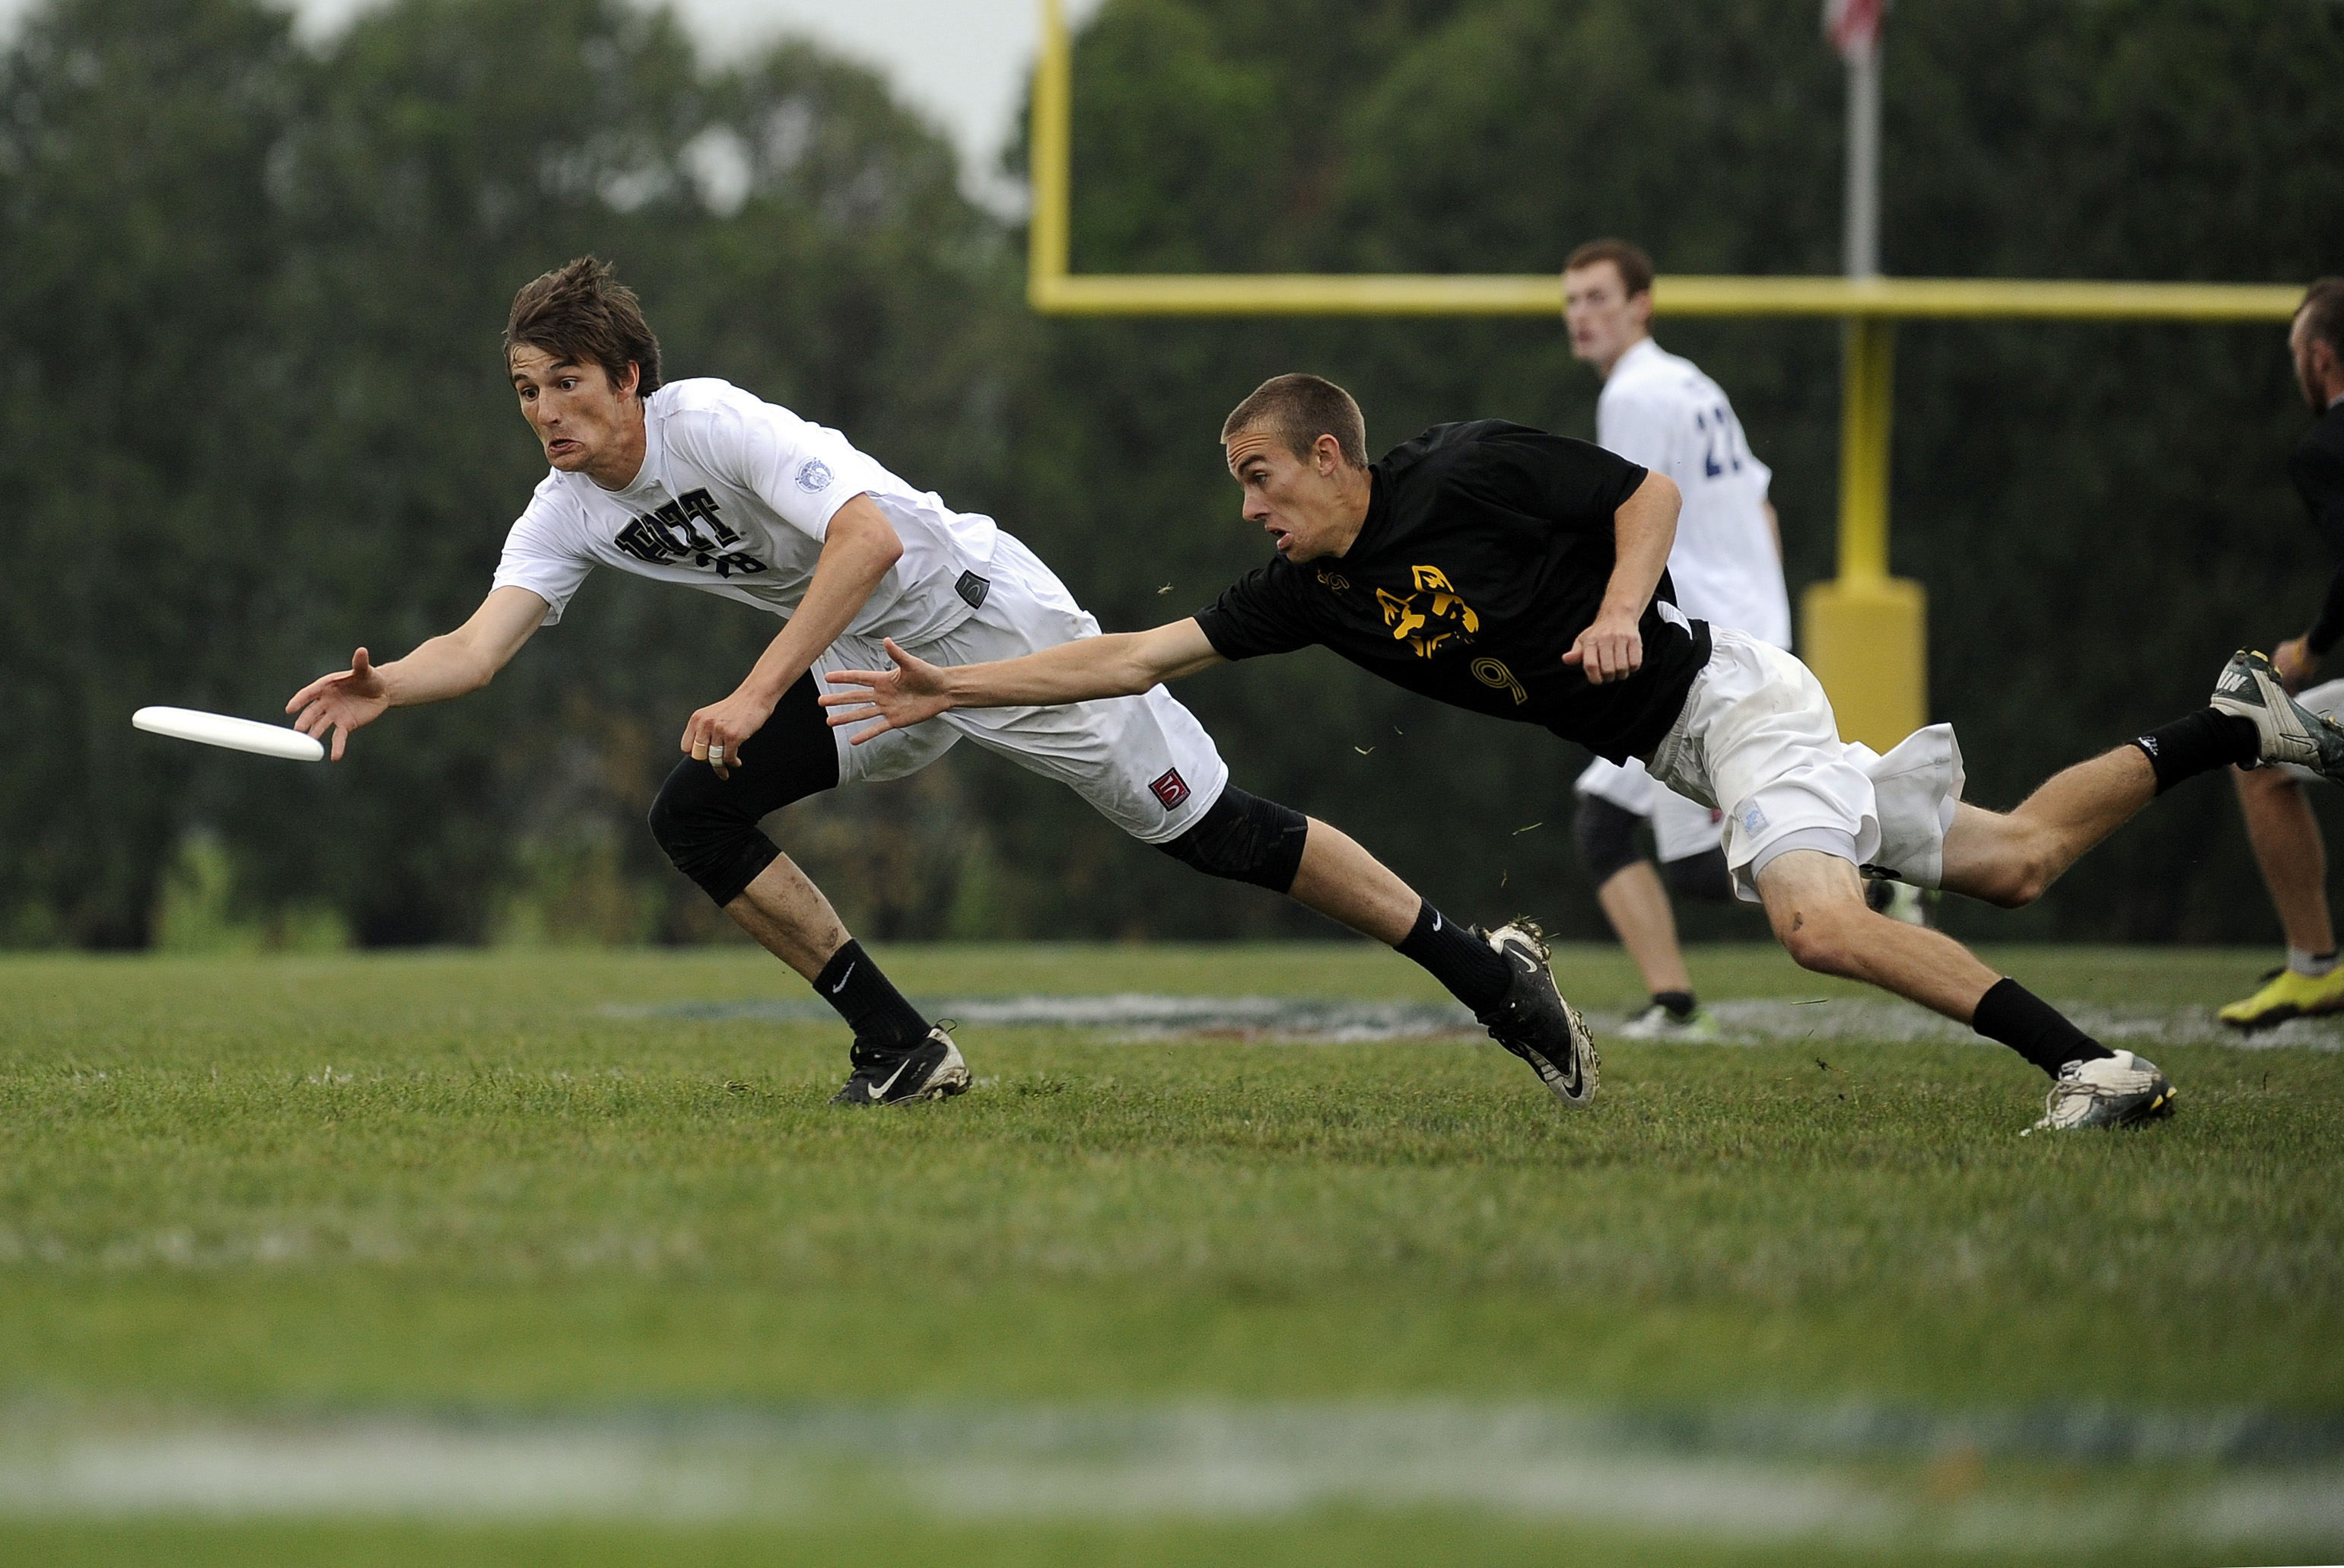disc: (121, 696, 338, 786)
